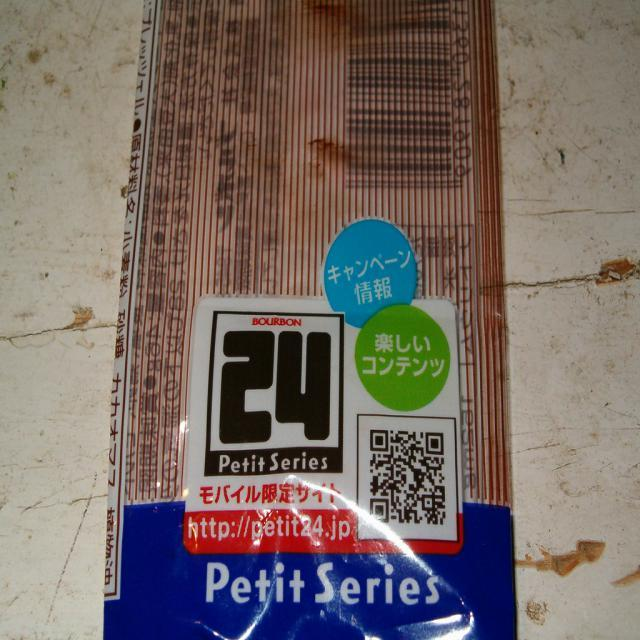qrcode: (371, 431, 446, 525)
